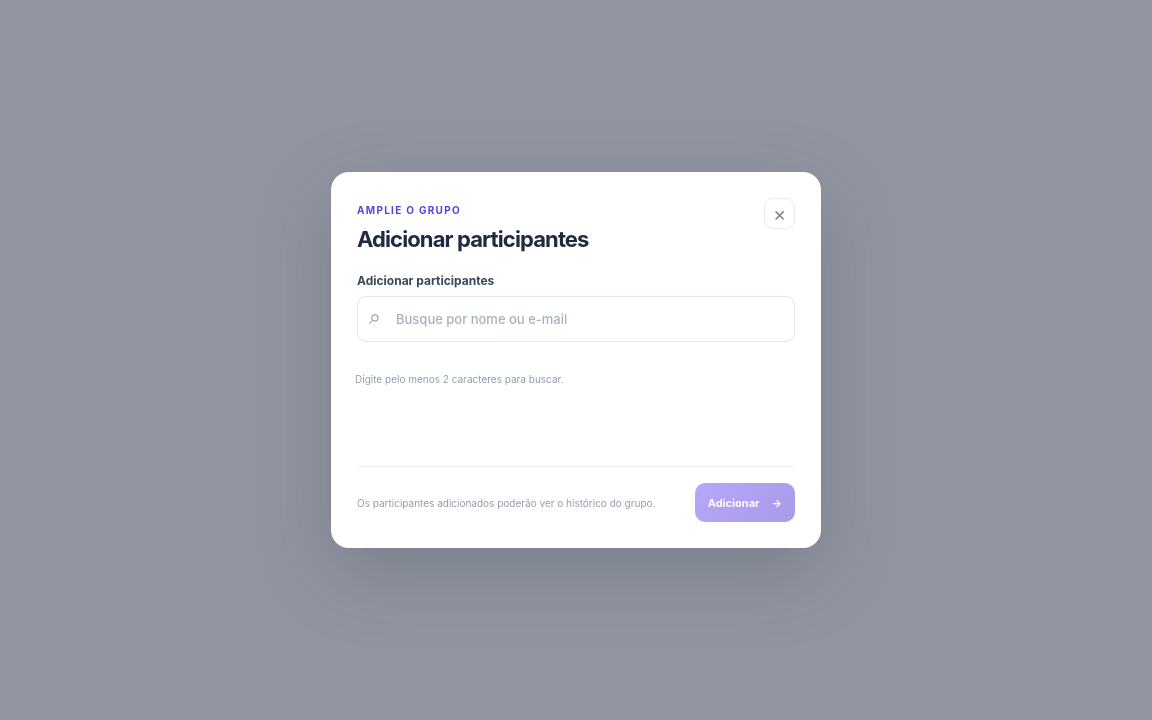
NewConversationDialog › adiciona participantes a um grupo sem oferecer membros que já estão nele
The image size is (1152, 720).
Later steps or results of the test are not shown.
Type "ana" into the field labelled "Adicionar participantes".
click(576, 319); type("ana")  # box [357,296,795,342]
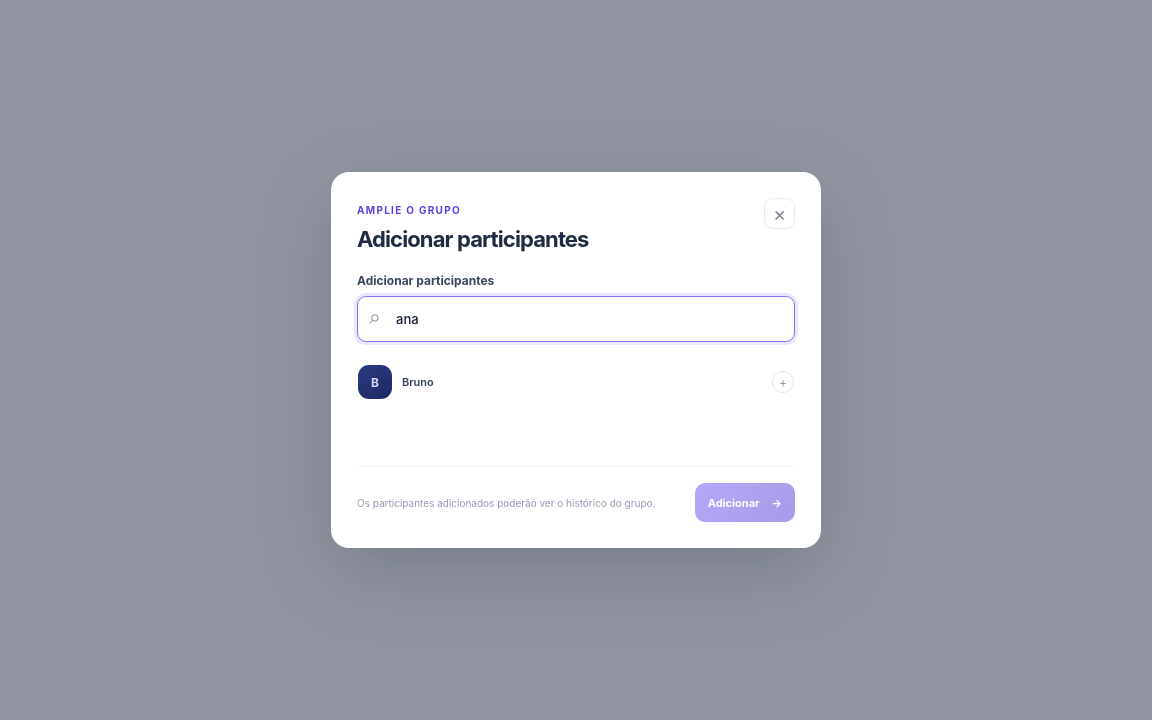
expect the button "B Bruno +" is shown: met, box [350,357,802,407]
